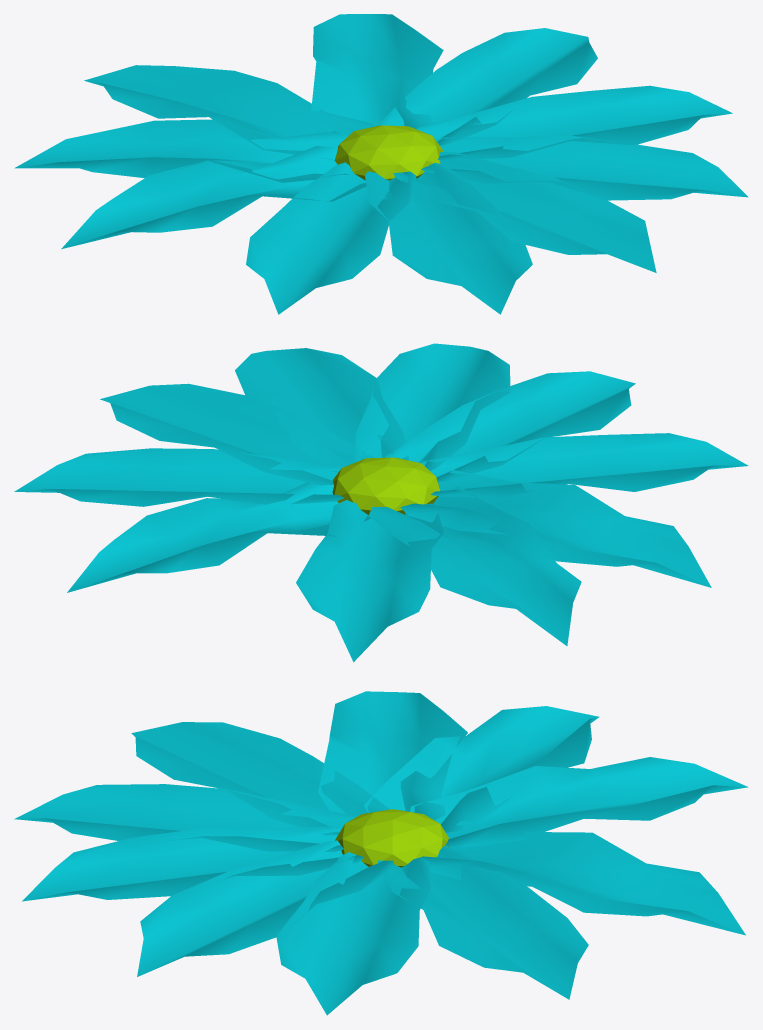
Rendered from heal_blue_flower_join.fbx.
The picture shows the model from 3 angles, top to bottom: view 1: azimuth 30°, elevation 25°; view 2: azimuth 150°, elevation 25°; view 3: azimuth 270°, elevation 25°; orthographic projection. The views are drawn at different scales.
Parts seen in each view (by area): view 1: Icosphere; view 2: Icosphere; view 3: Icosphere.
Boxes of the visible parts, bbox=[...] form: Icosphere: bbox=[14, 14, 748, 314]; Icosphere: bbox=[14, 343, 748, 662]; Icosphere: bbox=[14, 691, 748, 1015].
Bounding box in the file's own units: 1321 × 85.2 × 1247.
